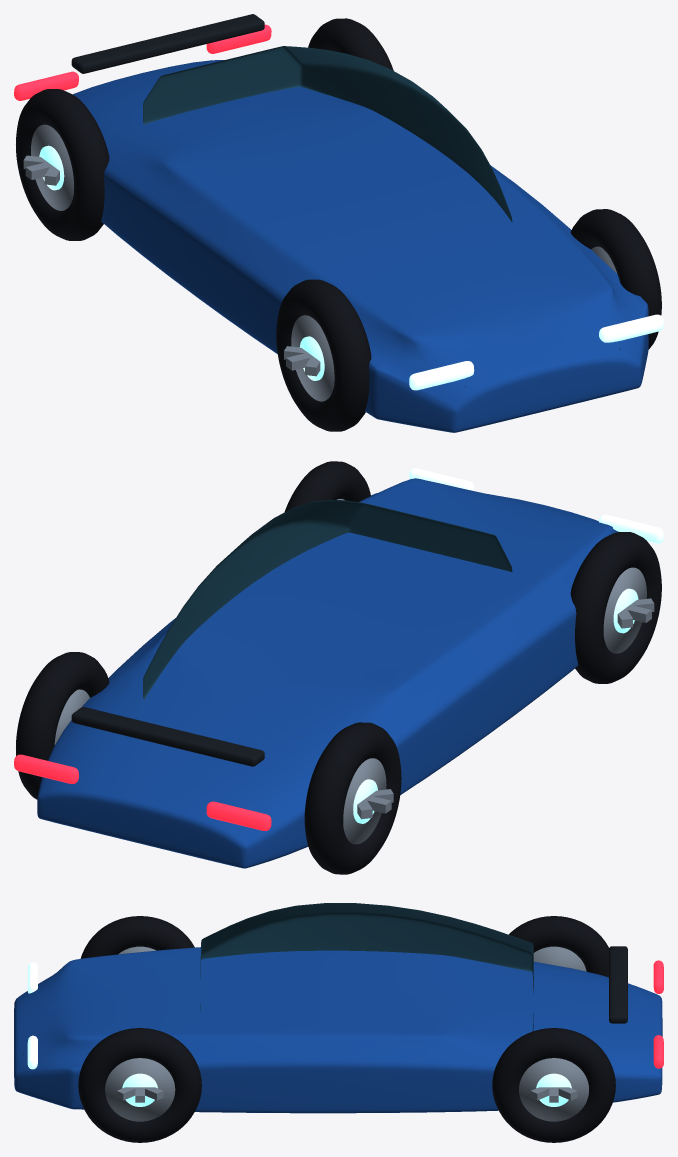
Rendered from rainline_coastline_gt_v2.glb.
3 views of the same model, one above another, from view 1: azimuth 30°, elevation 25°; view 2: azimuth 150°, elevation 25°; view 3: azimuth 270°, elevation 25° (orthographic). The views are drawn at different scales.
Parts seen in each view (by area): view 1: Coastline fastback body, Coastline fastback glass, Coastline performance tire, Coastline performance tire.001, Coastline performance tire.002, Coastline deck spoiler, Coastline performance tire.003, Coastline alloy wheel, Coastline alloy wheel.001, Coastline head lamp, Coastline head lamp.001, Coastline tail lamp (+1 smaller); view 2: Coastline fastback body, Coastline fastback glass, Coastline performance tire.001, Coastline performance tire, Coastline performance tire.003, Coastline deck spoiler, Coastline performance tire.002, Coastline alloy wheel.001, Coastline alloy wheel, Coastline tail lamp, Coastline tail lamp.001, Coastline head lamp (+2 smaller); view 3: Coastline fastback body, Coastline fastback glass, Coastline performance tire.003, Coastline performance tire.002, Coastline performance tire.001, Coastline performance tire, Coastline alloy wheel.002, Coastline alloy wheel.003, Coastline deck spoiler, Coastline alloy wheel.001, Coastline brake disc.003, Coastline brake disc.002.
Part boxes in pixels (x1,y1,x2,y2): Coastline fastback body: (73,60,648,432); Coastline fastback glass: (143,46,512,222); Coastline performance tire: (276,279,371,431); Coastline performance tire.001: (16,89,109,240); Coastline performance tire.002: (570,209,661,349); Coastline deck spoiler: (71,14,264,73); Coastline performance tire.003: (308,18,393,70); Coastline alloy wheel: (291,315,334,401); Coastline alloy wheel.001: (31,124,74,210); Coastline head lamp: (409,361,474,390); Coastline head lamp.001: (599,314,663,342); Coastline tail lamp: (14,71,78,100); Coastline fastback body: (37,478,618,868); Coastline fastback glass: (143,499,512,737); Coastline performance tire.001: (304,722,401,874); Coastline performance tire: (570,532,661,683); Coastline performance tire.003: (16,652,109,799); Coastline deck spoiler: (71,707,264,766); Coastline performance tire.002: (284,461,370,511); Coastline alloy wheel.001: (343,758,386,844); Coastline alloy wheel: (603,567,646,653); Coastline tail lamp: (206,801,271,830); Coastline tail lamp.001: (14,754,78,783); Coastline head lamp: (599,514,663,543); Coastline fastback body: (14,947,662,1113); Coastline fastback glass: (200,903,533,1031); Coastline performance tire.003: (492,1028,615,1142); Coastline performance tire.002: (78,1028,201,1142); Coastline performance tire.001: (509,916,608,977); Coastline performance tire: (80,916,194,958); Coastline alloy wheel.002: (105,1058,175,1121); Coastline alloy wheel.003: (519,1058,588,1121); Coastline deck spoiler: (609,946,627,1023); Coastline alloy wheel.001: (533,946,586,971); Coastline brake disc.003: (536,1073,571,1106); Coastline brake disc.002: (122,1073,157,1106).
Size of the model in its own units: 2.62 by 1.34 by 5.15.
